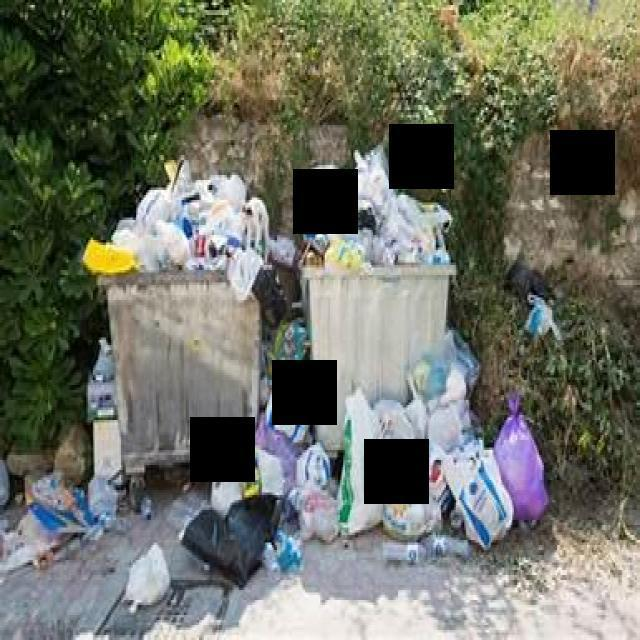Garbage: (78, 161, 269, 293), (299, 139, 459, 265)
contaminated_waste: (98, 156, 269, 303), (310, 144, 455, 263)
